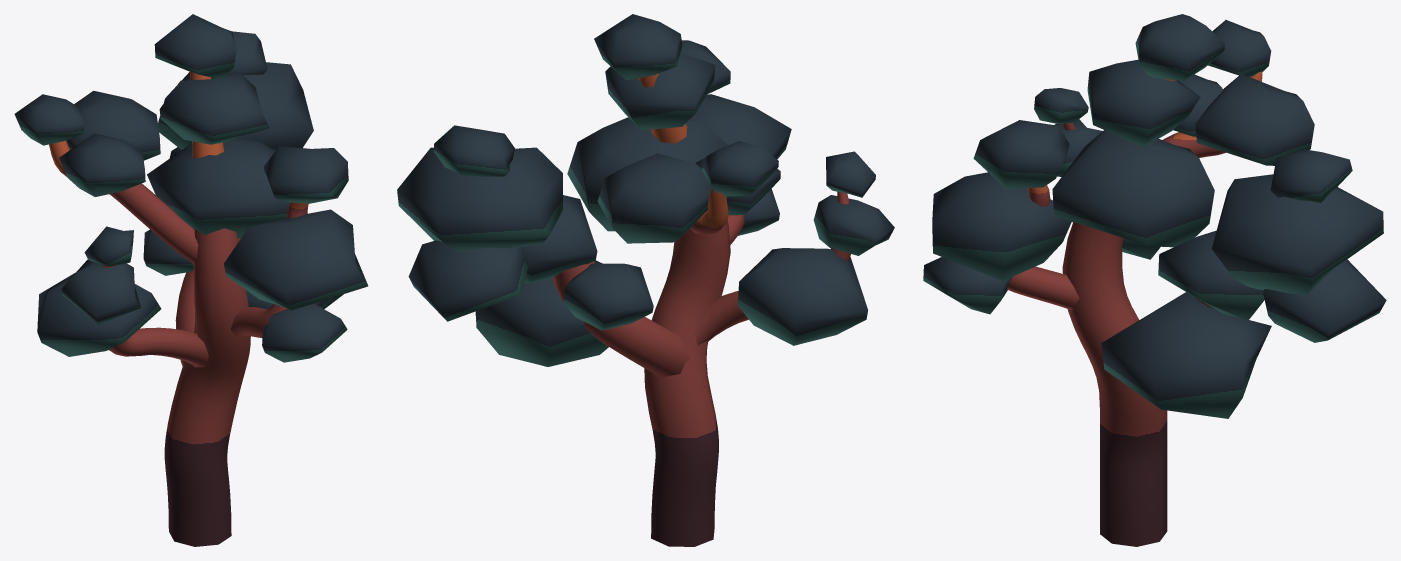
Rendered from Tree_G_3.fbx.
The picture shows the model from 3 angles, left to right: view 1: azimuth 30°, elevation 25°; view 2: azimuth 150°, elevation 25°; view 3: azimuth 270°, elevation 25°; orthographic projection. The views are drawn at different scales.
Visible parts, largest first — view 1: Tree01; view 2: Tree01; view 3: Tree01.
Part boxes in pixels (<box>): Tree01: <box>14,14,368,546</box>; Tree01: <box>397,14,894,546</box>; Tree01: <box>923,14,1386,546</box>.
Size of the model in its own units: 563 by 743 by 598.
Materials: 1 (1 with a texture image).
